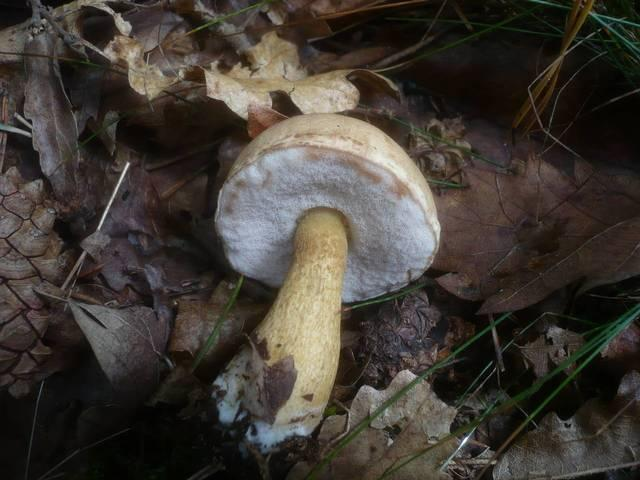Non-edible Mushroom: (206, 110, 442, 455)
